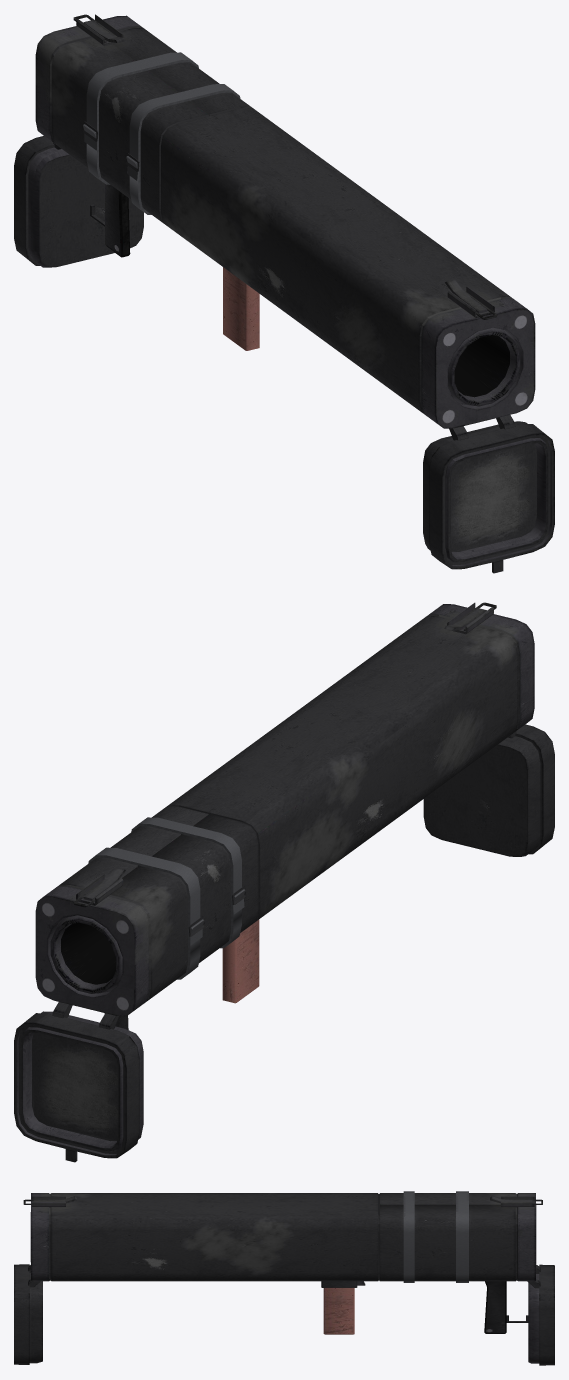
The picture shows the model from 3 angles, top to bottom: view 1: azimuth 30°, elevation 25°; view 2: azimuth 150°, elevation 25°; view 3: azimuth 270°, elevation 25°; orthographic projection. The views are drawn at different scales.
Parts seen in each view (by area): view 1: defaultMaterial; view 2: defaultMaterial; view 3: defaultMaterial.
Part boxes in pixels (x1,y1,x2,y2): defaultMaterial: (14,14,554,573); defaultMaterial: (14,602,554,1162); defaultMaterial: (14,1191,554,1365).
Bounding box in the file's own units: 0.4632 × 0.992 × 3.
1 material, 1 textured.
